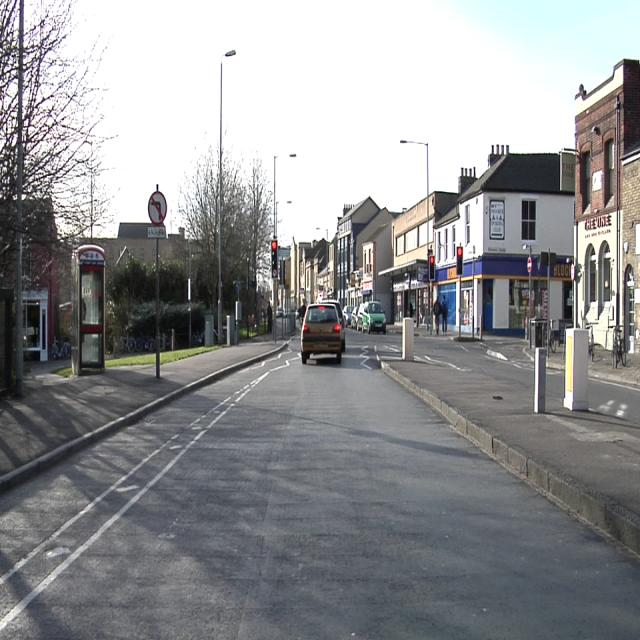Building: (431, 65, 639, 354), (385, 192, 457, 325), (335, 198, 397, 317), (282, 238, 333, 310)
Car: (301, 302, 345, 363), (350, 302, 386, 332)
Road: (0, 332, 639, 625)
Tree: (1, 3, 106, 237), (222, 149, 270, 326), (179, 145, 217, 252)
